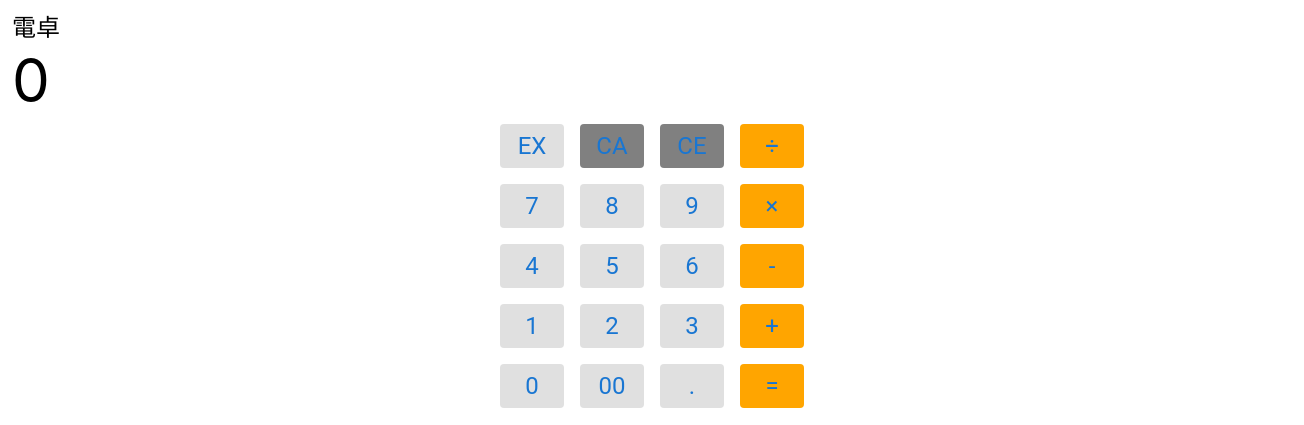
Test case: handleNumberClick event › 引き算　1-2=-1"
Click the button "1" at (532, 326), box left=500, top=304, right=564, bottom=348
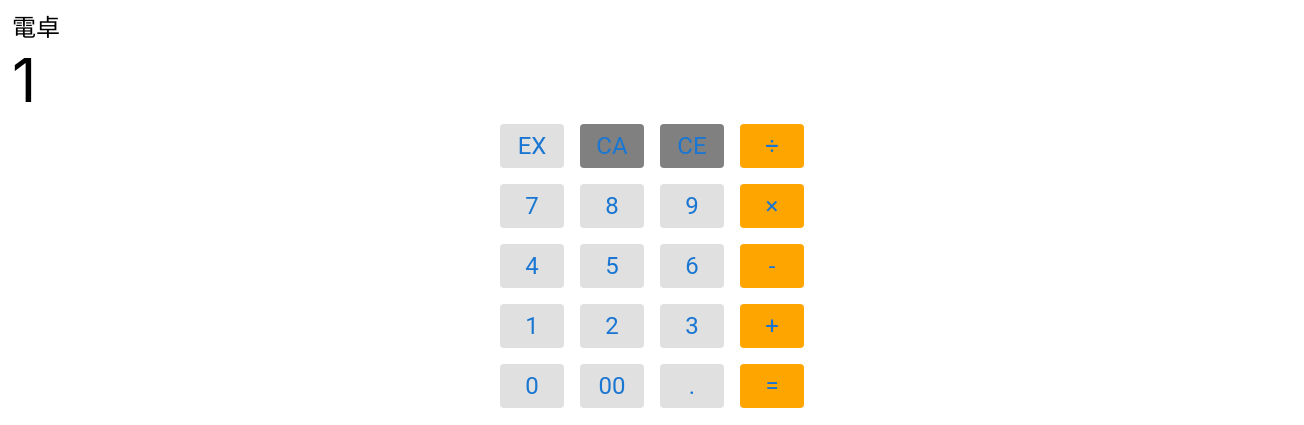
Click the button "-" at (772, 266), box left=740, top=244, right=804, bottom=288
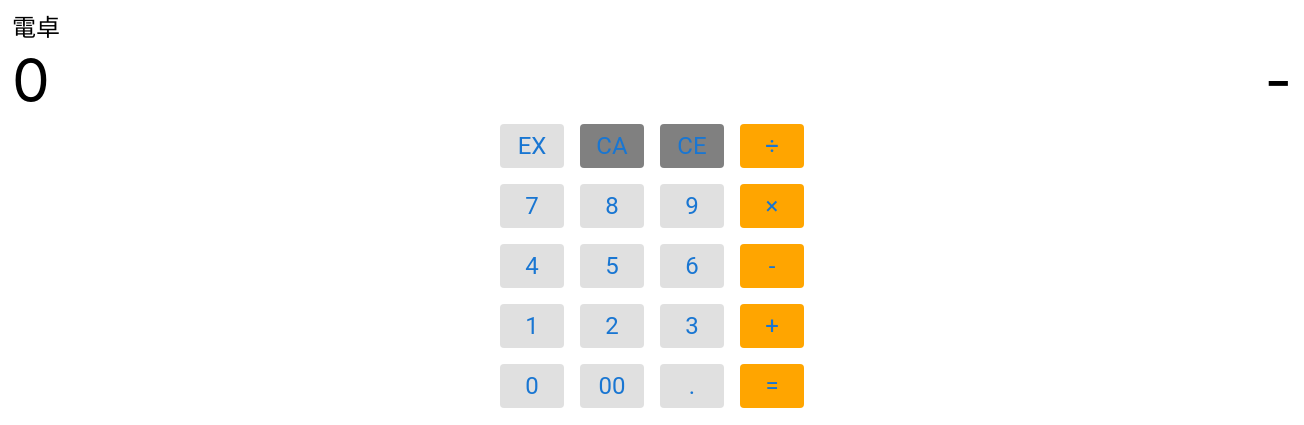
Click the button "2" at (612, 326), box left=580, top=304, right=644, bottom=348
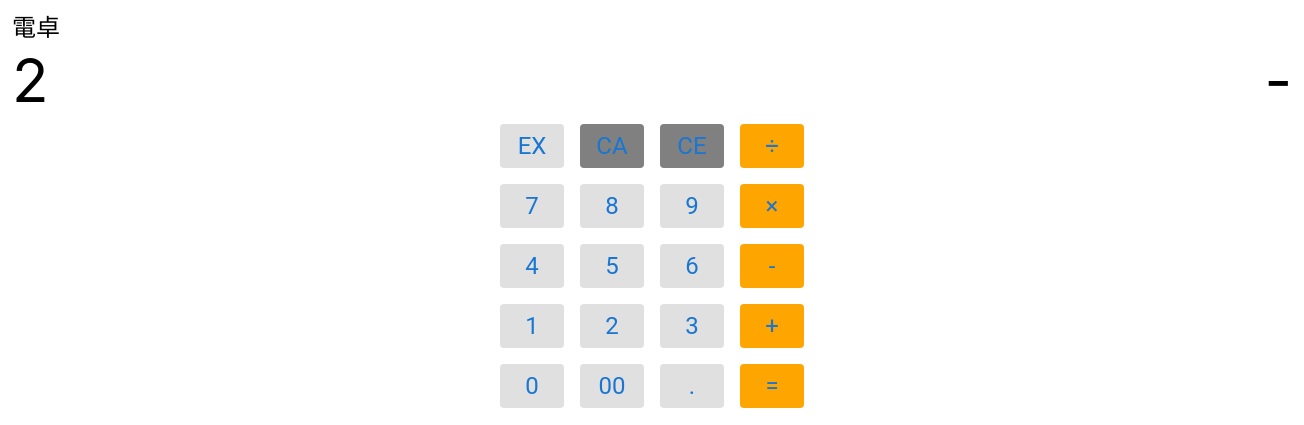
Click the button "=" at (772, 386), box left=740, top=364, right=804, bottom=408
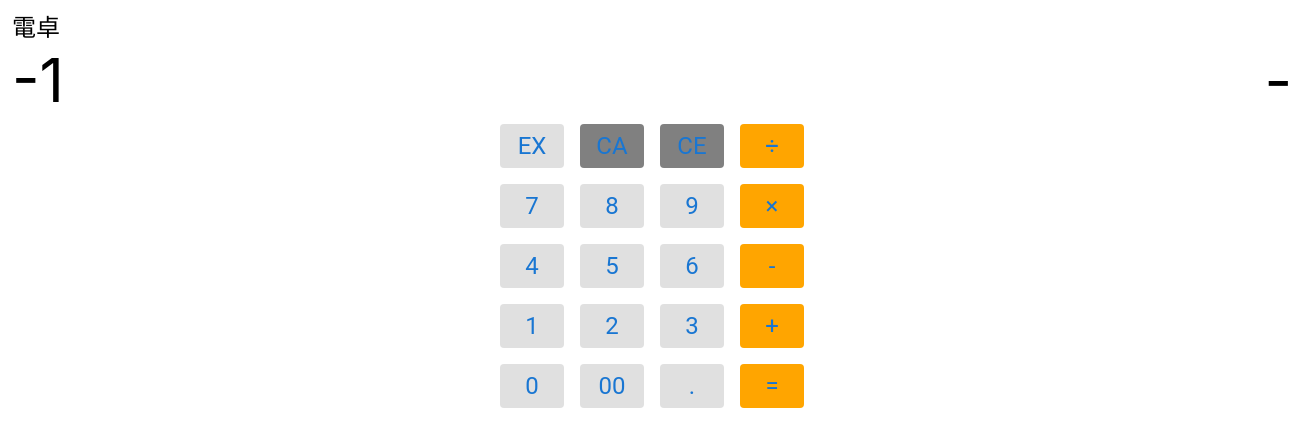
Expected: the text with test id "display" reads "-1", left=12, top=44, right=64, bottom=116
